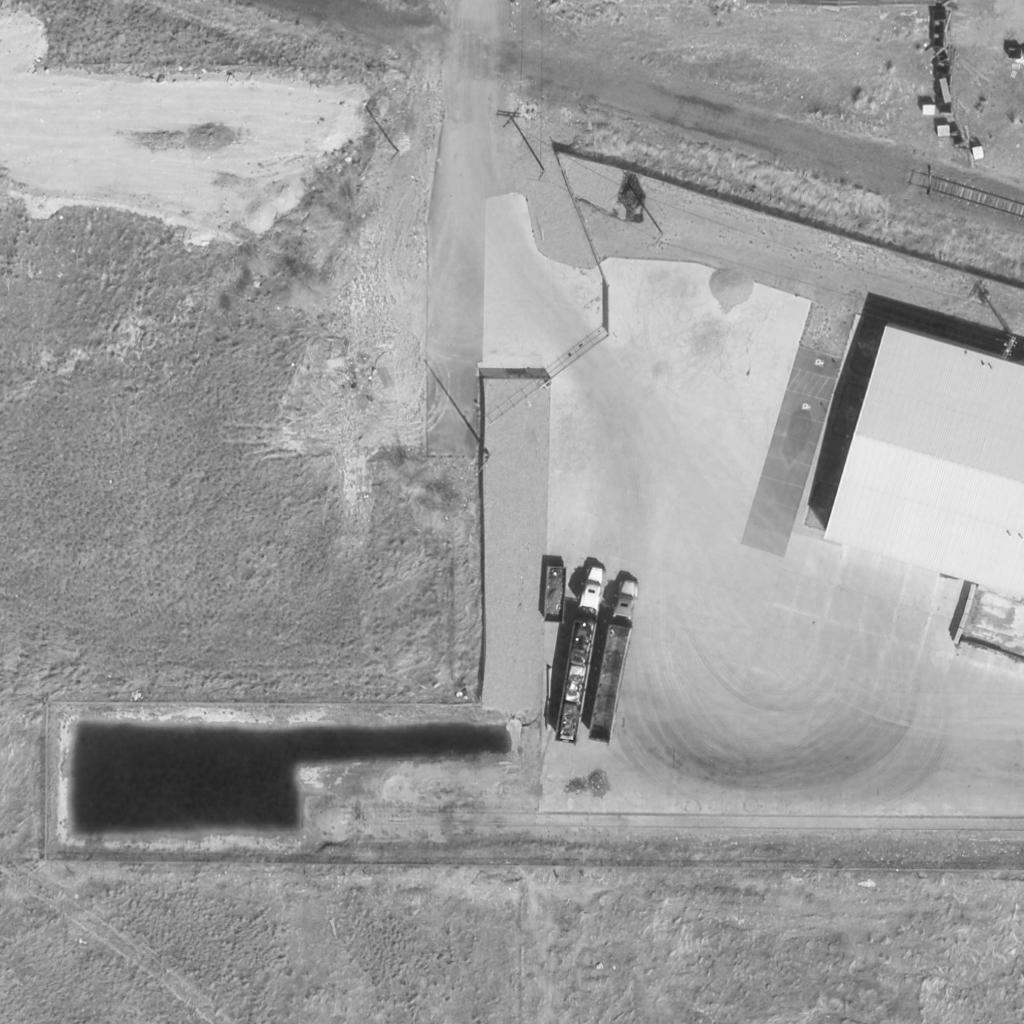vehicle: (551, 565, 613, 749), (590, 577, 642, 743), (571, 623, 595, 663), (561, 702, 579, 742), (569, 662, 585, 704)
